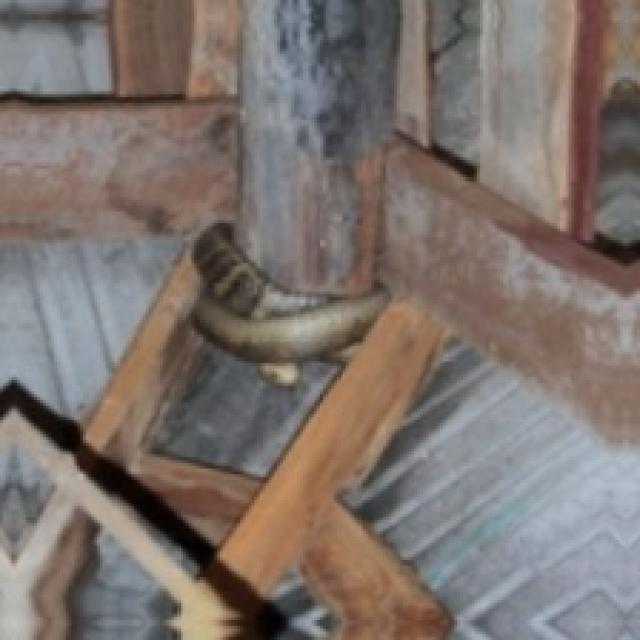king cobra: (191, 223, 386, 383)
